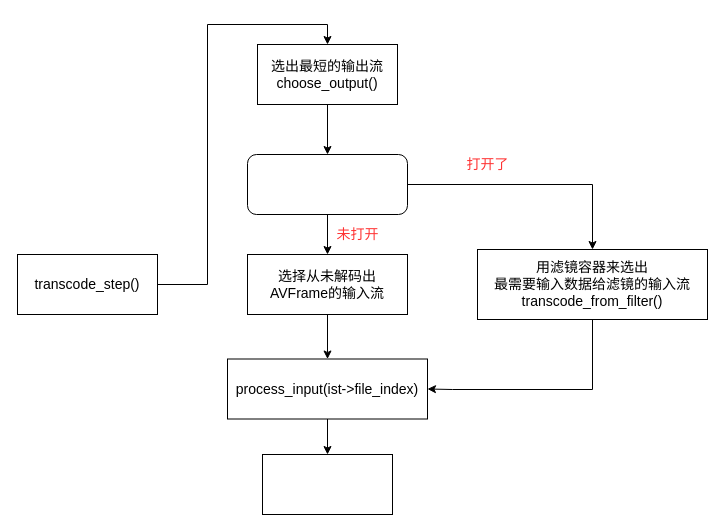
This 725x532 diagram has some shape labels left out. The shapes that lost their labels are listed below. From the top down, each one's box as (x1, y1, x2, y2) in pixels, then its label:
(246, 154, 408, 214): 滤镜容器是否打开
(262, 454, 392, 514): reap_filters(0)
